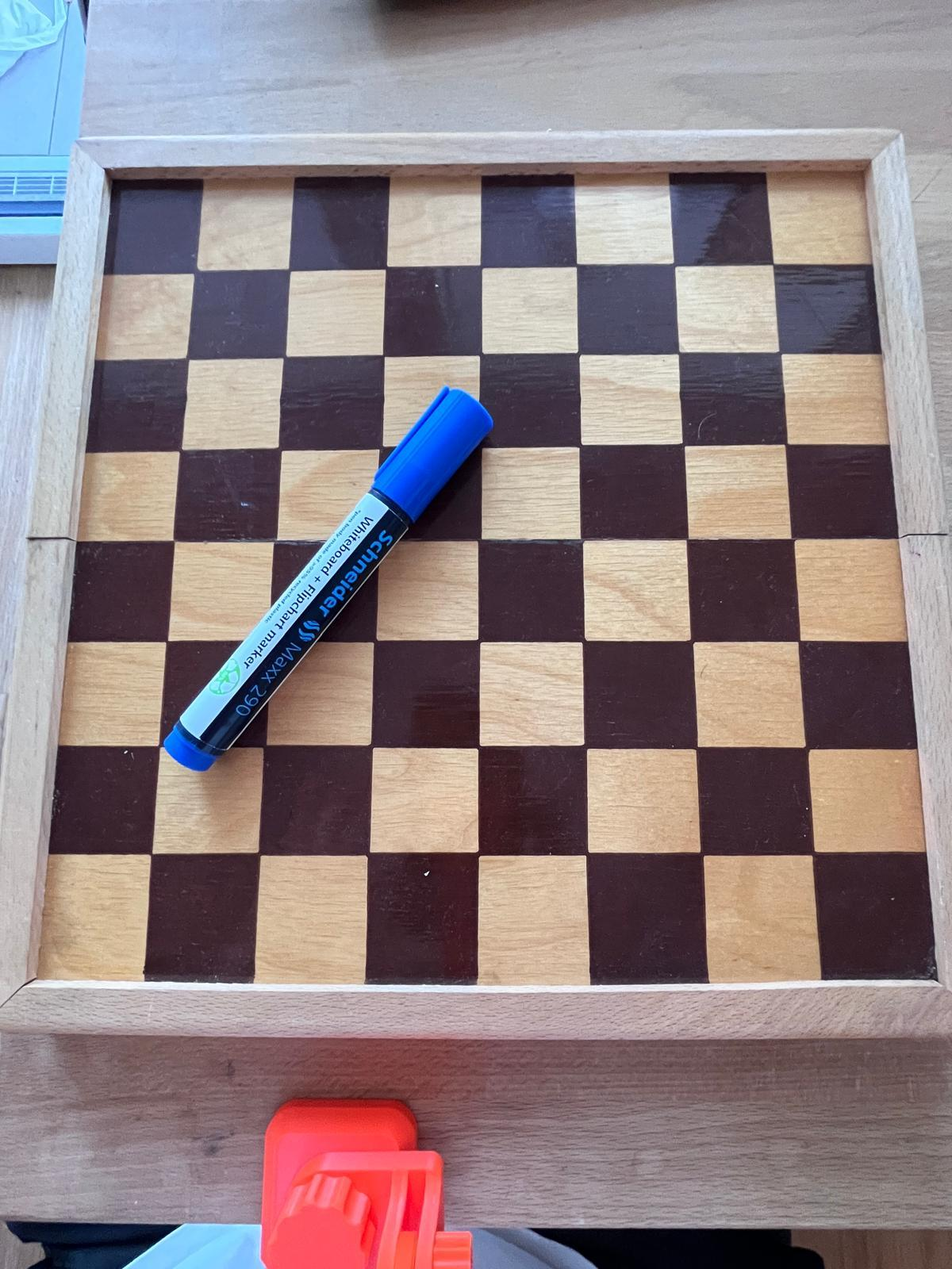marker: (151, 390, 506, 768)
